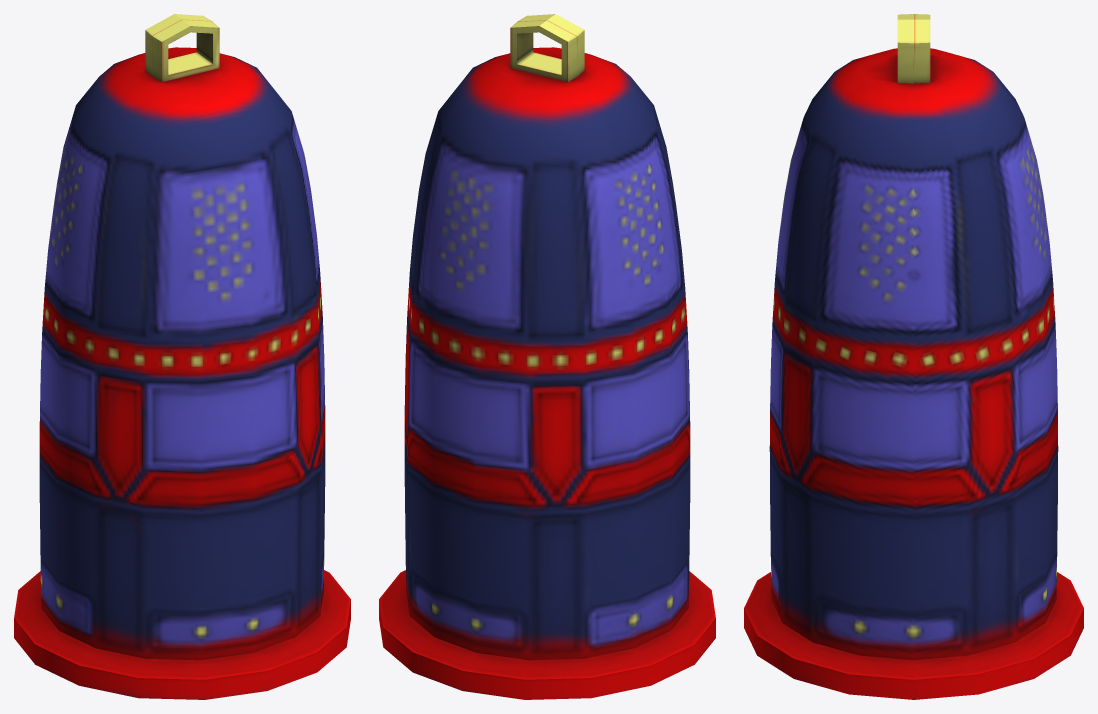
The model's file is bell.fbx.
3 renders of one model, left to right at view 1: azimuth 30°, elevation 25°; view 2: azimuth 150°, elevation 25°; view 3: azimuth 270°, elevation 25°, orthographic.
Visible parts, largest first — view 1: bell; view 2: bell; view 3: bell.
Part boxes in pixels (bbox=[...]): bell: bbox=[14, 14, 350, 699]; bell: bbox=[379, 14, 715, 699]; bell: bbox=[744, 14, 1083, 699].
Bounding box in the file's own units: 8.25 × 16.3 × 8.25.
1 material, 1 textured.
